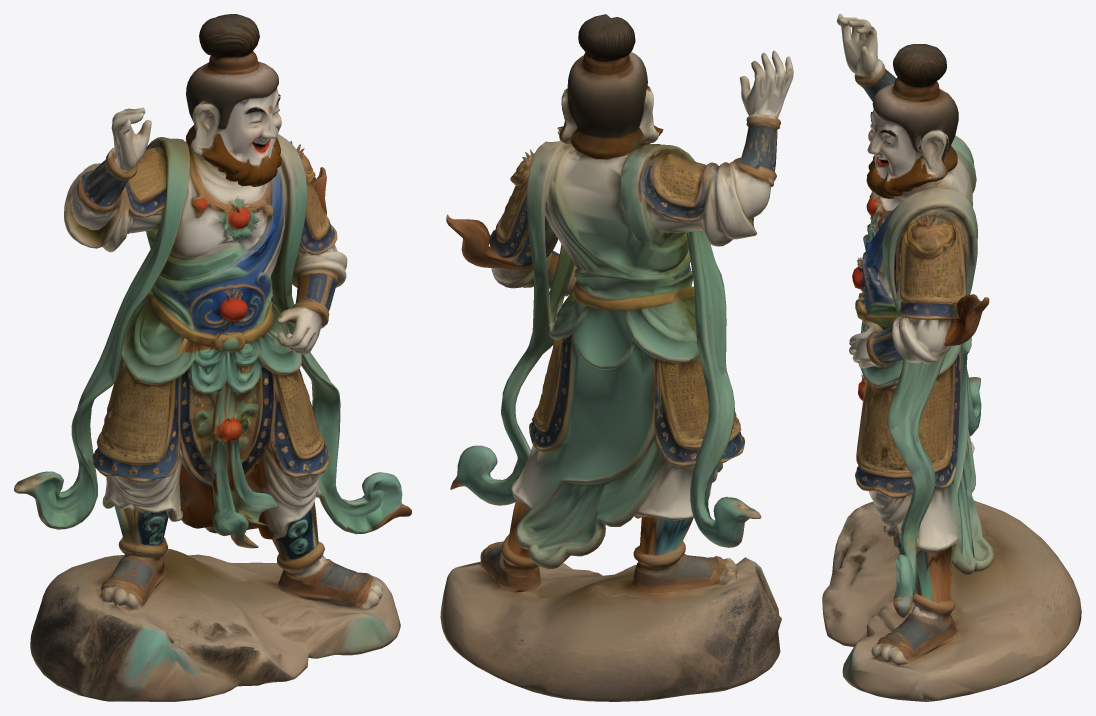
The model's file is smiling-king.glb.
3 views of the same model, side by side, from view 1: azimuth 30°, elevation 25°; view 2: azimuth 150°, elevation 25°; view 3: azimuth 270°, elevation 25° (orthographic). The views are drawn at different scales.
Visible parts, largest first — view 1: convert; view 2: convert; view 3: convert.
Part boxes in pixels (bbox=[...]): convert: bbox=[14, 14, 411, 701]; convert: bbox=[440, 14, 793, 701]; convert: bbox=[822, 14, 1081, 701].
Bounding box in the file's own units: 0.6211 × 1.04 × 0.4214.
Materials: 1 (1 with a texture image).
